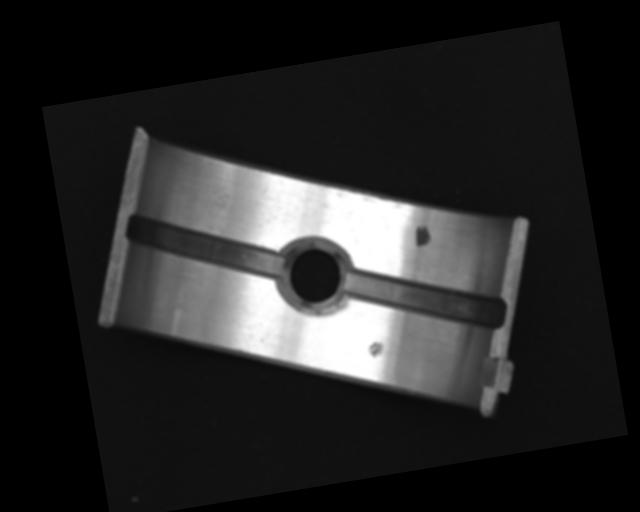blot: (412, 223, 433, 249)
bruise: (366, 340, 386, 359)
gap: (123, 192, 289, 301), (342, 244, 508, 353)
hole: (278, 238, 353, 319)
